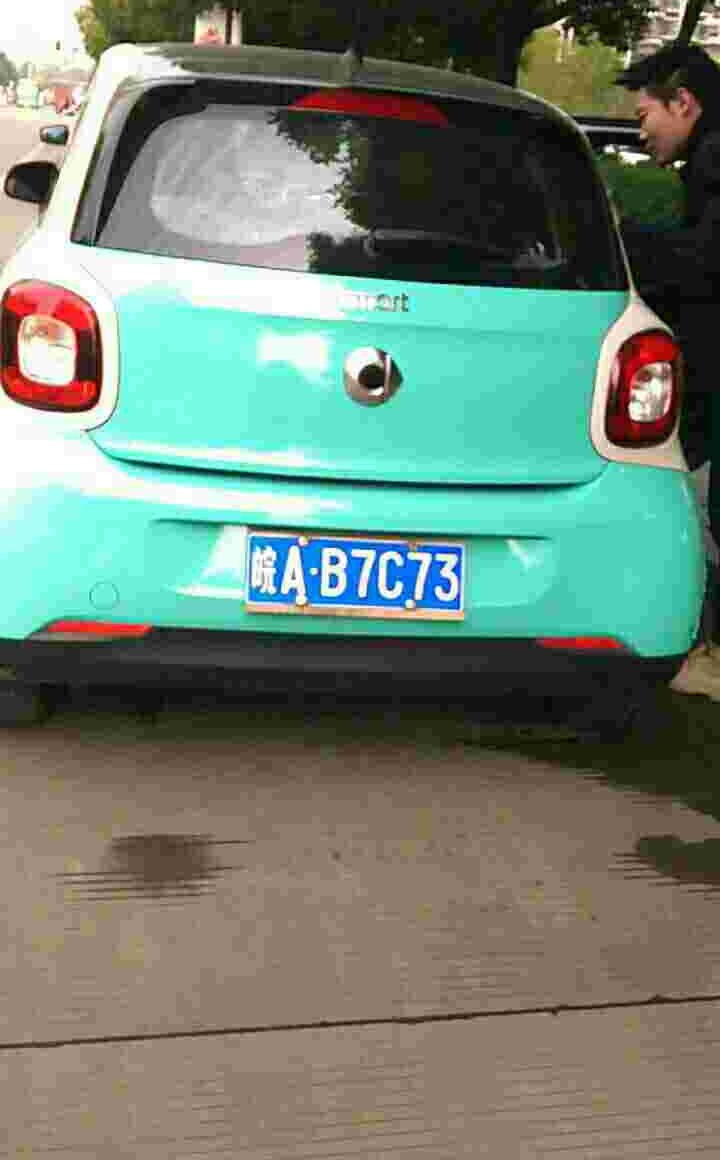license_plate: (244, 531, 471, 616)
